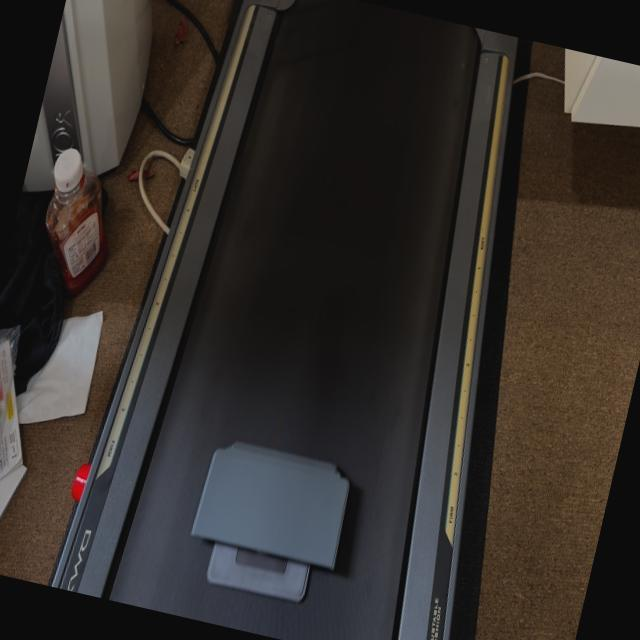Trash: (178, 409, 372, 613)
